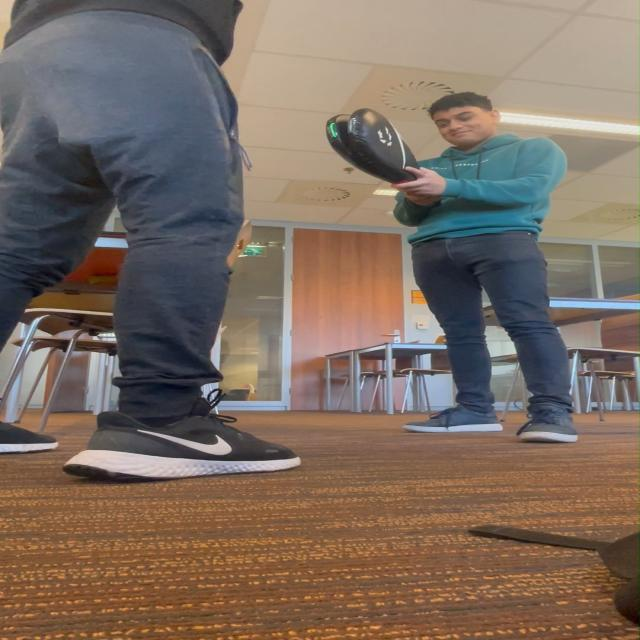paddle: (326, 109, 419, 179)
trigger: (322, 119, 344, 142)
